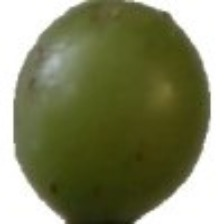grapes: (64, 15, 201, 178)
